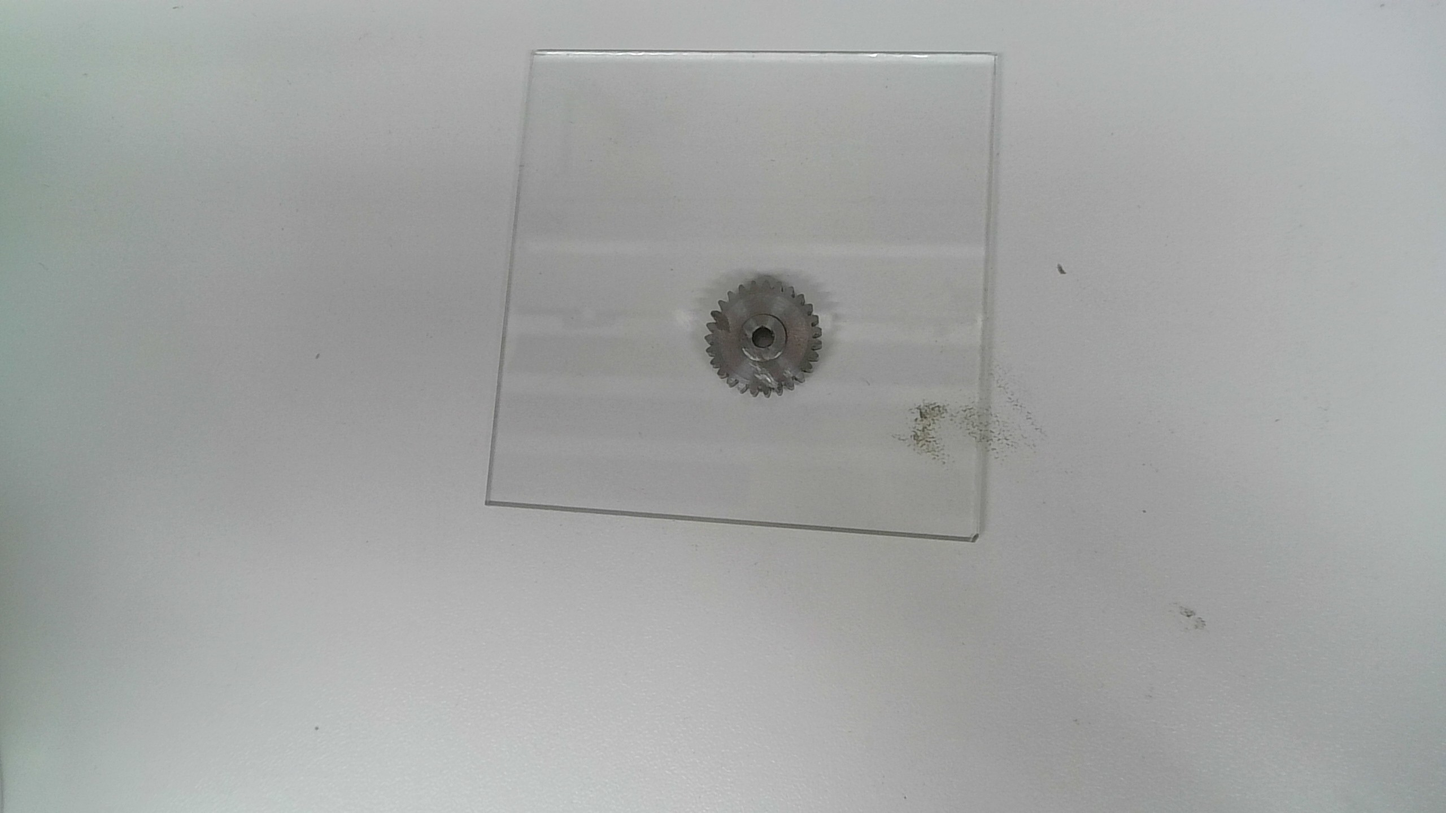gear: (703, 278, 826, 401)
